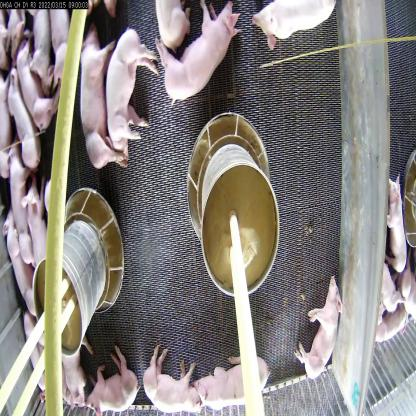Pig: (152, 0, 248, 97), (102, 26, 157, 158), (77, 34, 121, 169), (197, 346, 269, 416), (292, 275, 340, 376), (139, 346, 204, 415), (15, 40, 61, 130), (247, 2, 338, 45), (84, 344, 137, 415), (4, 214, 34, 320), (51, 346, 97, 415), (6, 74, 40, 166), (384, 165, 408, 279), (6, 151, 30, 260), (25, 178, 49, 276)
